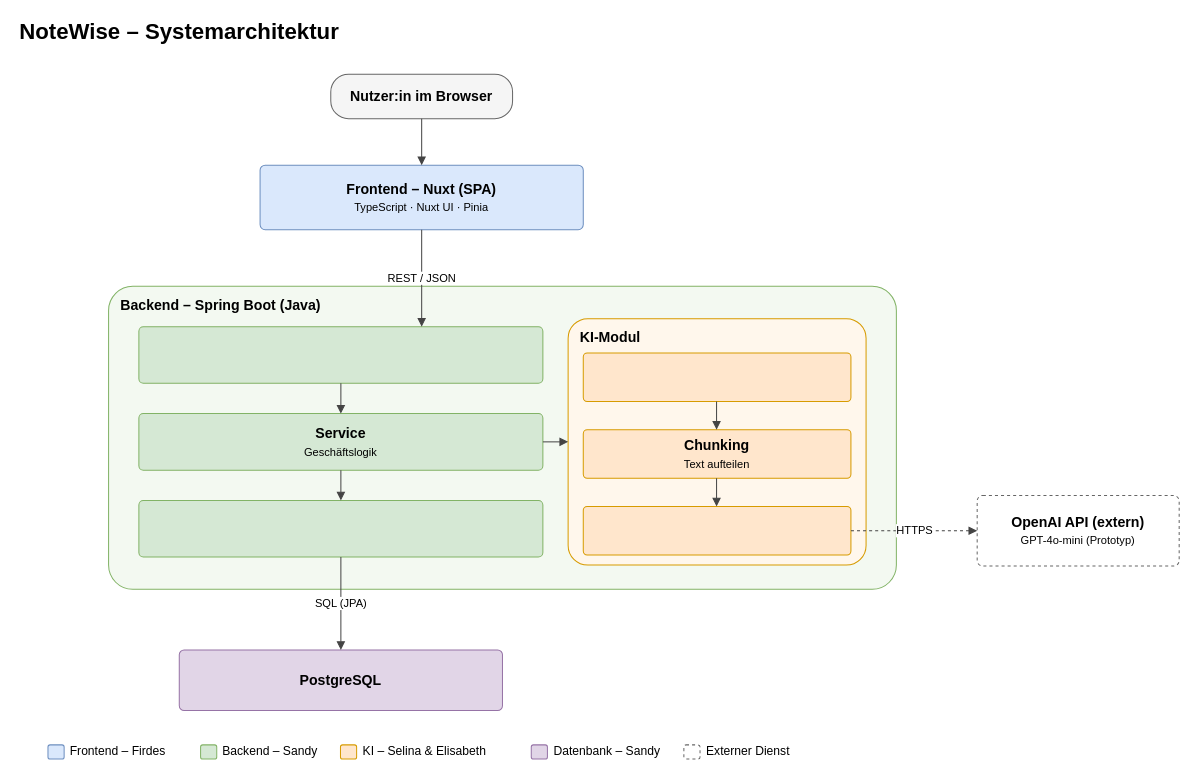
Image size: 1197x779. Some labels were removed from this diagram. The shapes that lost their labels are listed below. From the top down, each one's centre as x and y in pixels, then its label:
At point 340,354: "Controller REST-API".
At point 716,376: "Apache Tika PDF → Text".
At point 340,528: "Repository Spring Data JPA".
At point 716,530: "Spring AI LLM-Anbindung".
